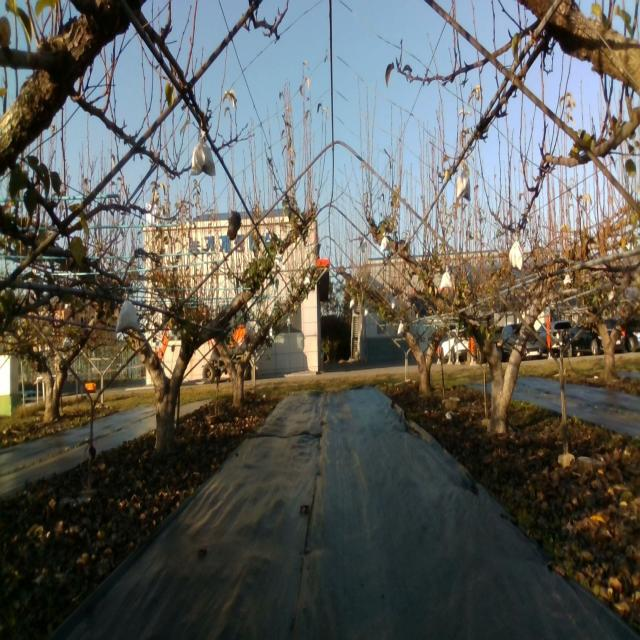pearbags: (192, 131, 215, 176), (115, 296, 139, 336), (456, 167, 470, 202), (508, 240, 522, 273), (440, 266, 452, 290)
